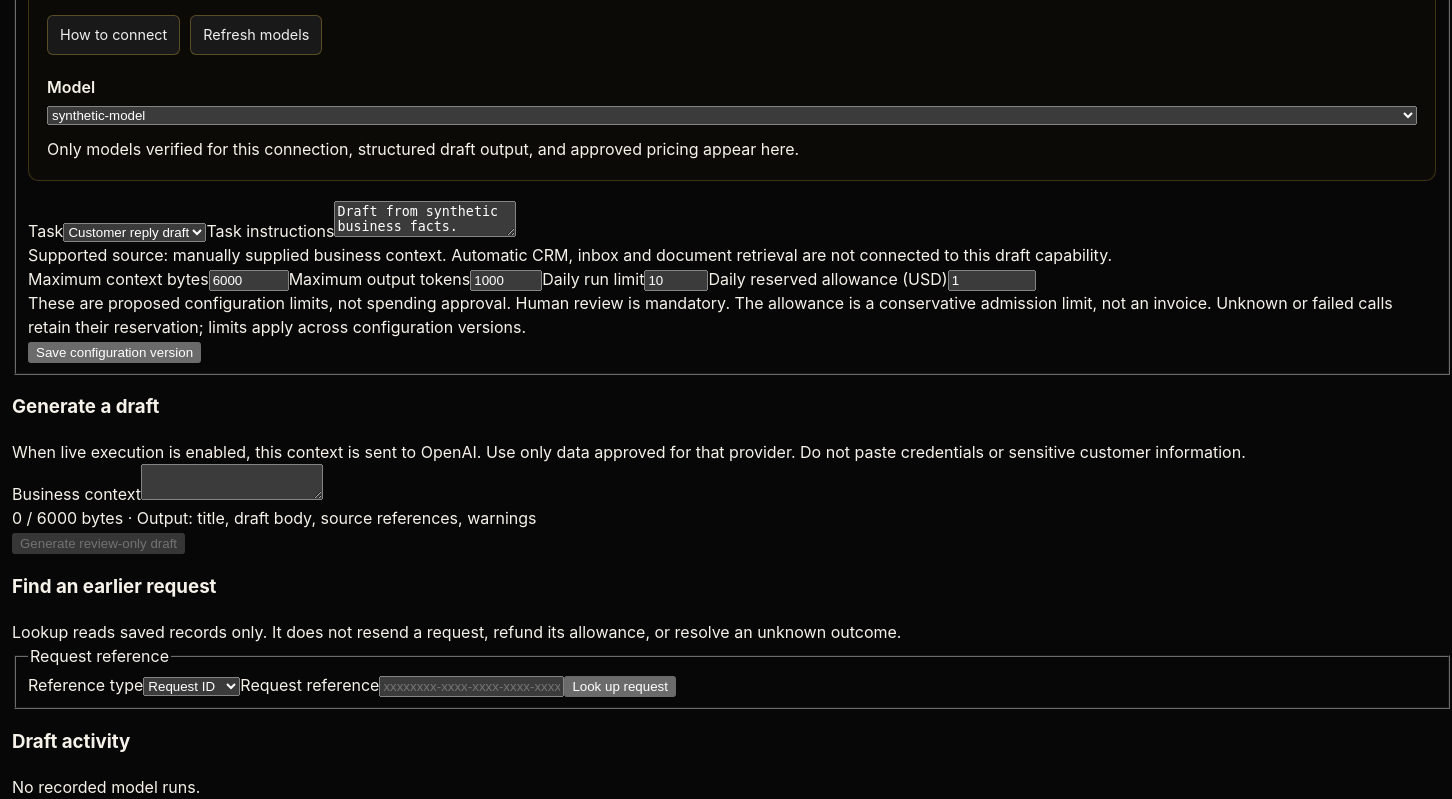
Test: OFF-by-default paid inference controls › shows explicit approved caps and provider limits of verification without an enable switch
(page scrolled)
Type "Synthetic context only." into the text box labelled "Business context" at (232, 482), box [141,464,323,500]
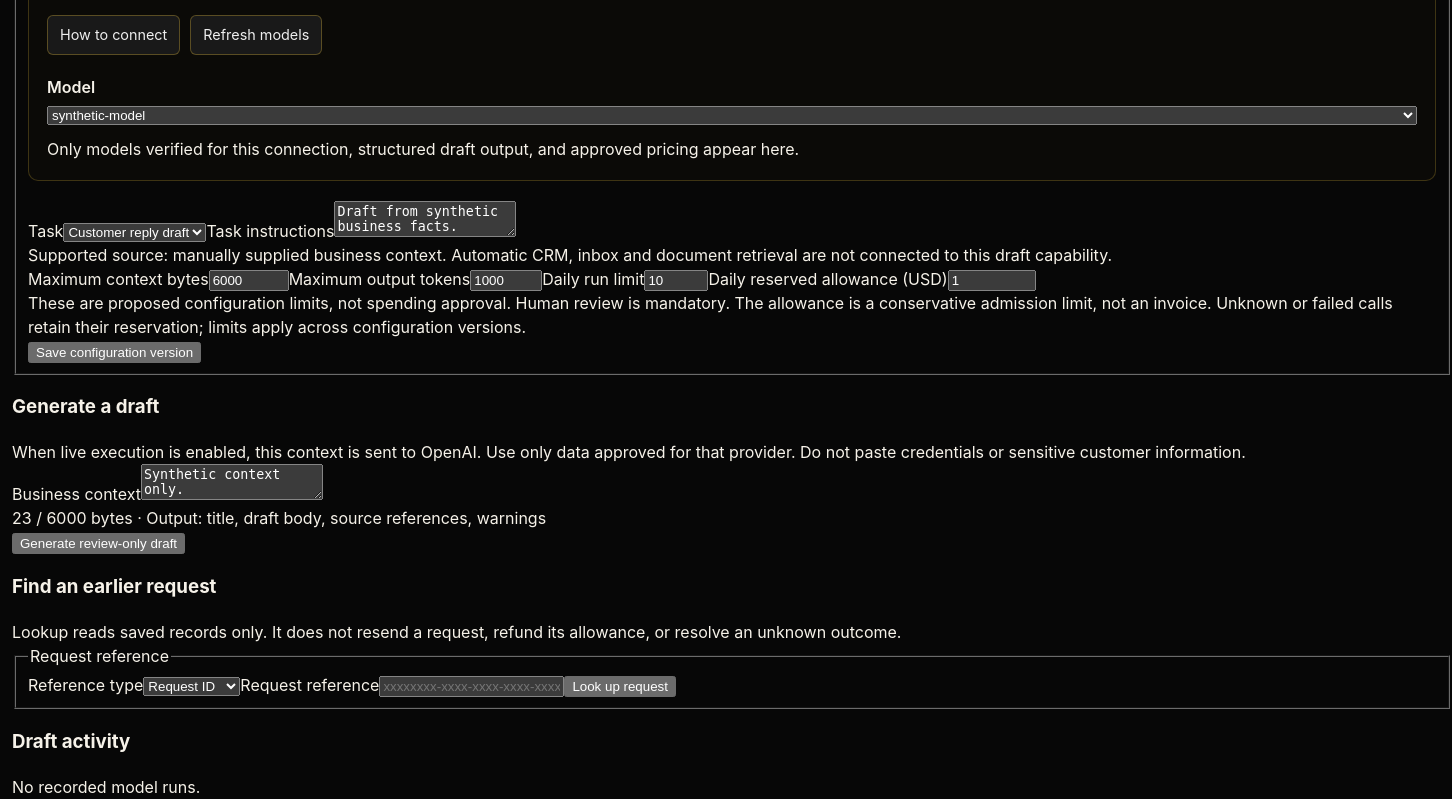
Expected: the text "These are proposed configuration limits, not spending approval" is shown, [28,293,1393,337]
Expected: the button "Generate review-only draft" is enabled, [12,533,185,554]
